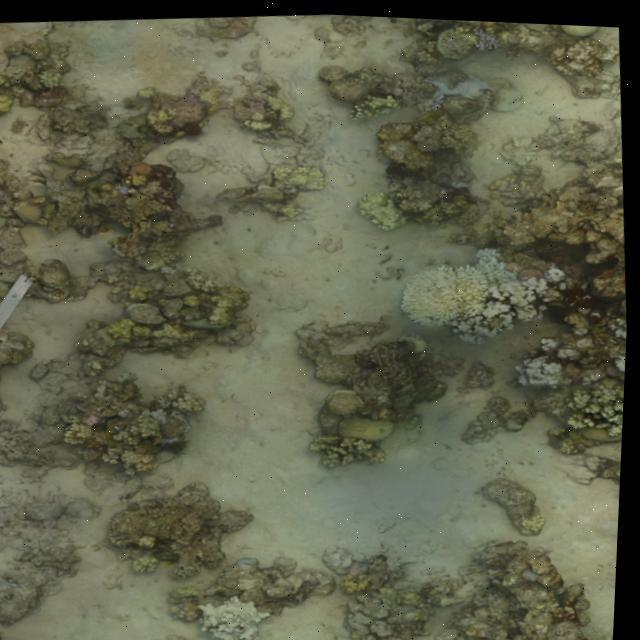Bleached Coral: (393, 235, 557, 326), (191, 582, 281, 640), (507, 319, 592, 379)
